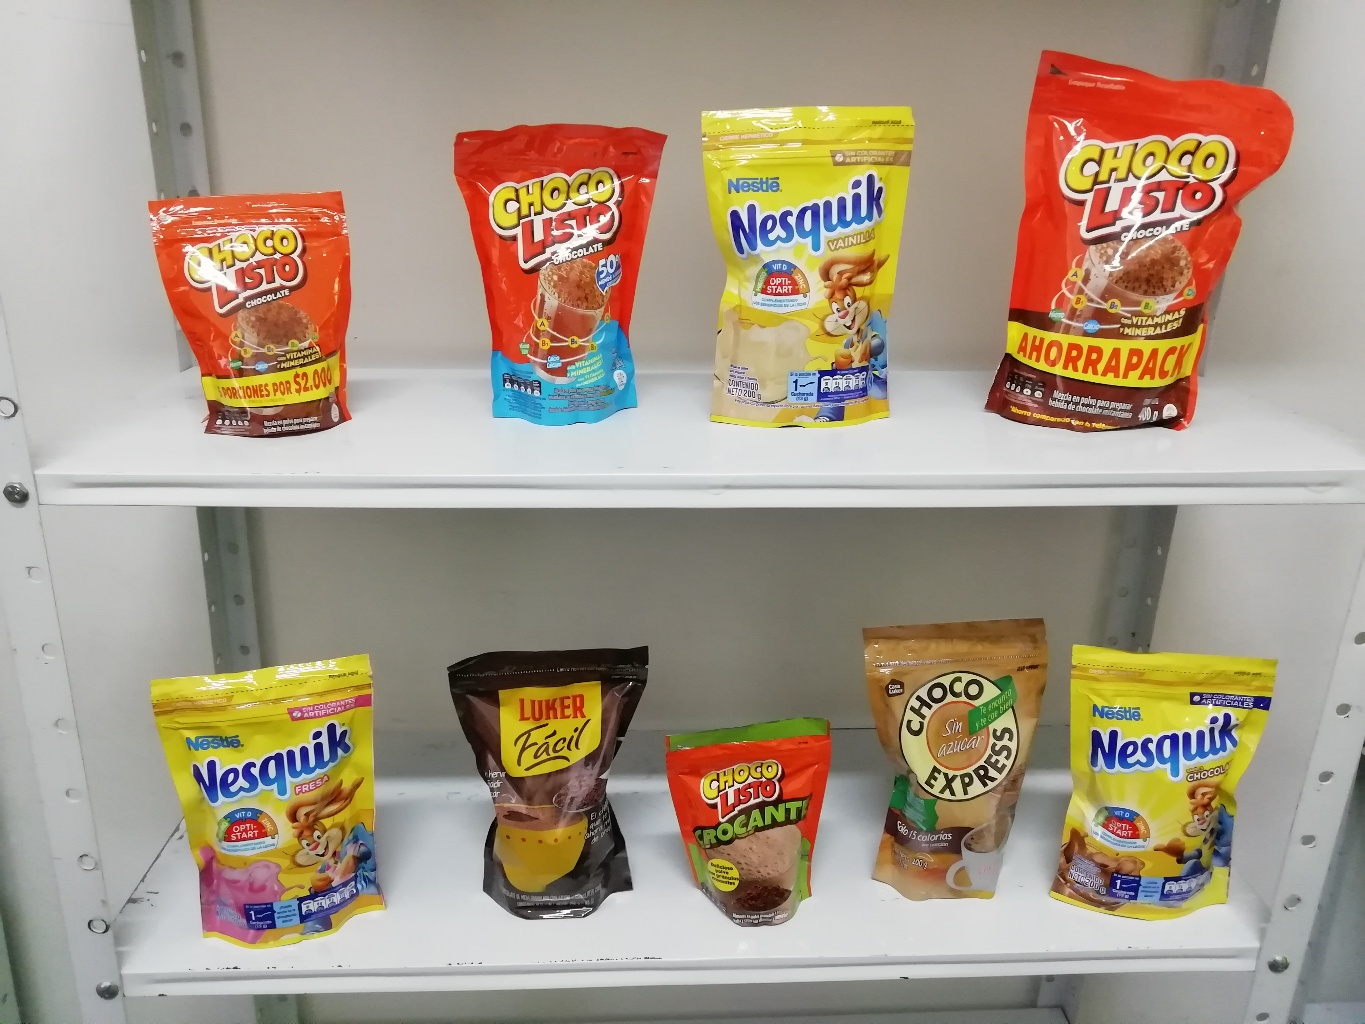COL0170102DYP10000: (655, 703, 848, 948)
COL0170103DYP10000: (127, 180, 383, 450)
COL0170103DYP40000: (976, 40, 1305, 445)
COL0170104DYP20000: (445, 110, 678, 441)
COL0170303DYP20000: (1039, 624, 1285, 931)
COL0170305DYP20000: (141, 646, 408, 955)
COL0170306DYP20000: (689, 93, 925, 438)
